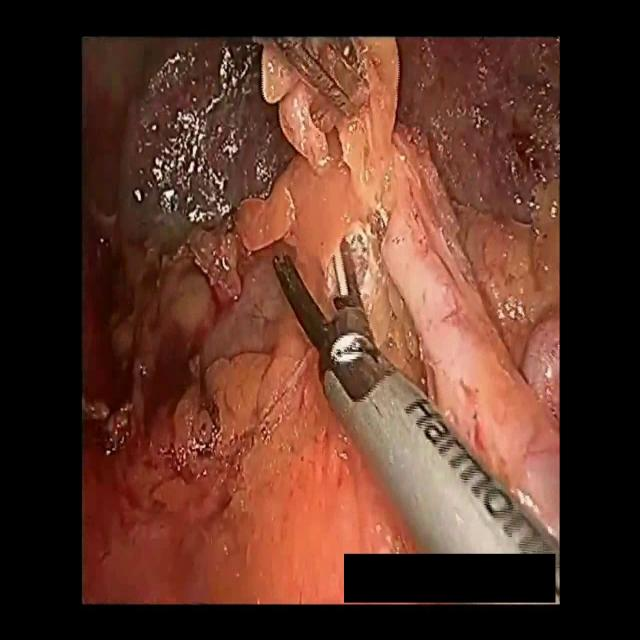surgical-area: (82, 39, 559, 608)
surgical-tool: (274, 236, 562, 556)
